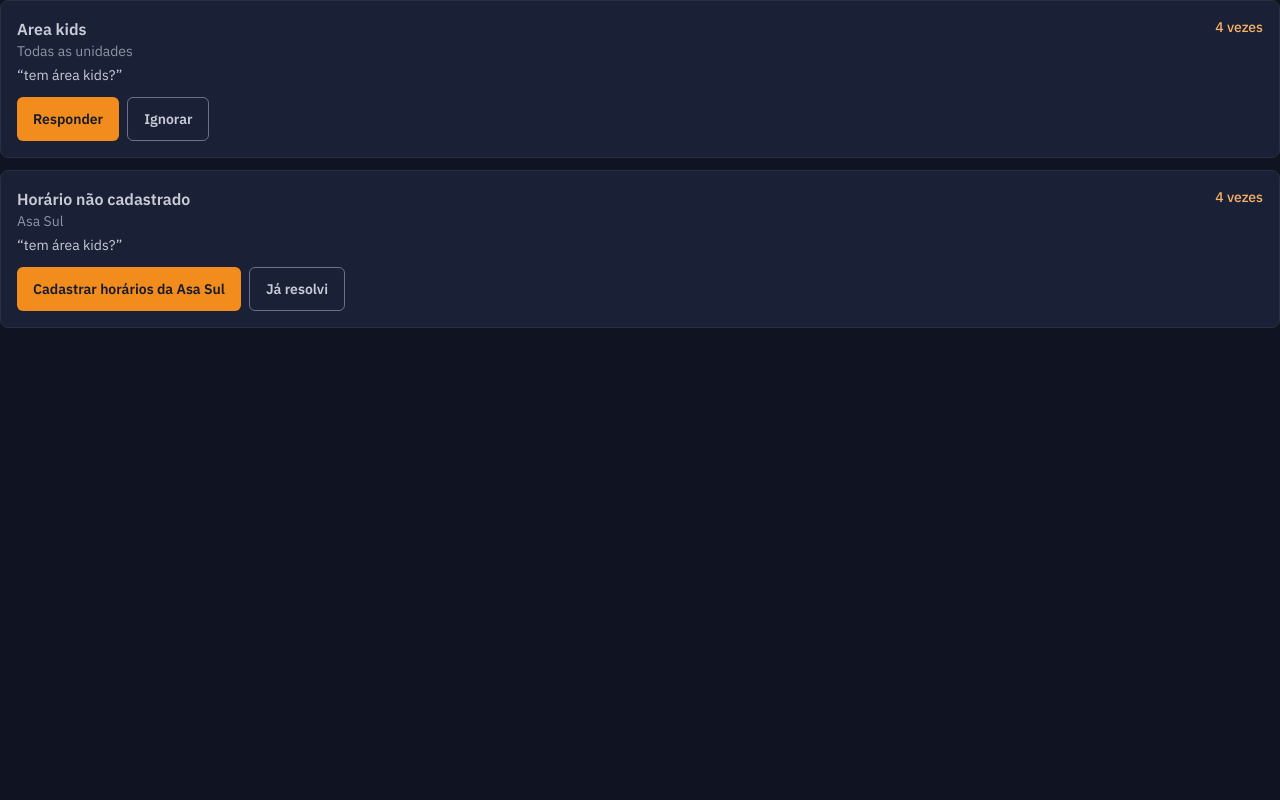
Test: SemResposta › lacuna de informação abre o formulário pré-preenchido; de horário leva à unidade
Expected: the text "4 vezes" is shown 2 times, [1215, 17, 1263, 37]; [1215, 187, 1263, 207]
Click the button with aria-label "Responder: Area kids": {"x": 68, "y": 119} [17, 97, 119, 141]
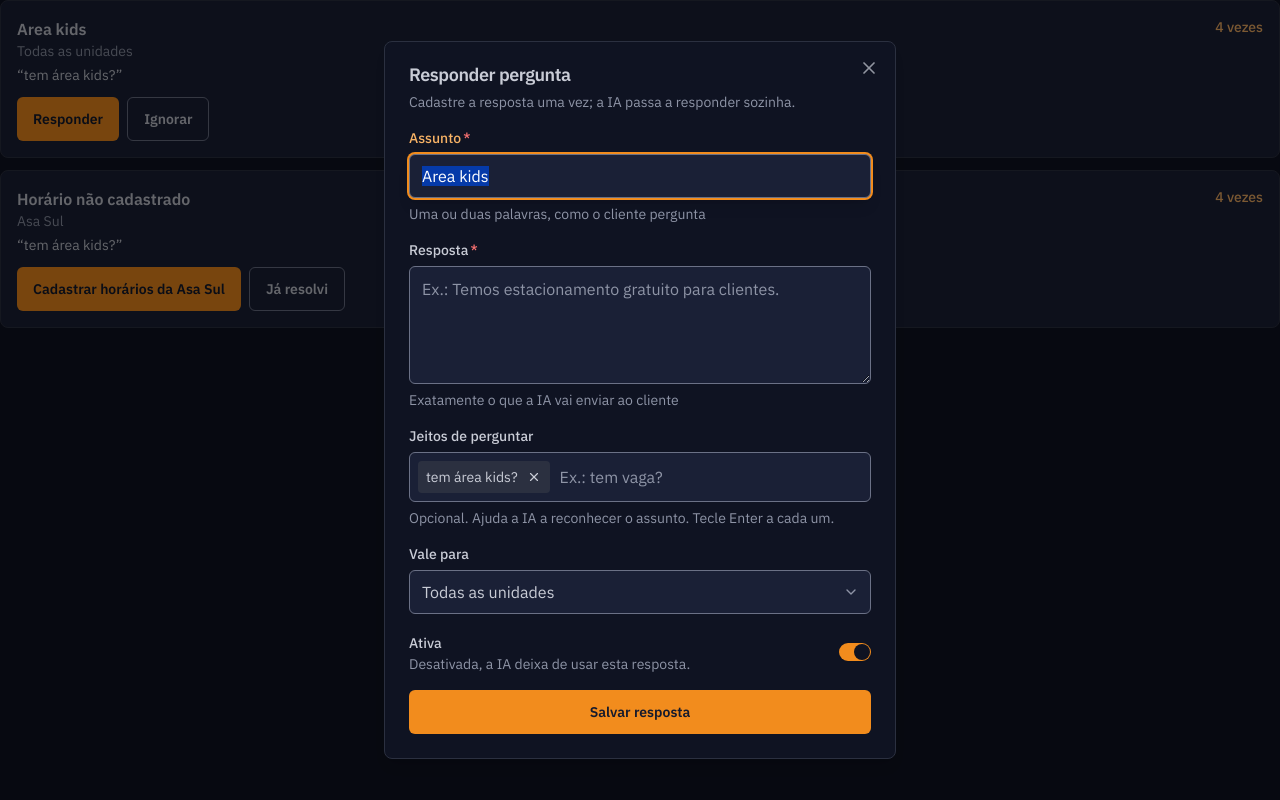
Result: the field labelled "Assunto*" holds "Area kids" at [409, 154, 871, 198]
Result: the list item "tem área kids?" is shown at [418, 461, 550, 493]
